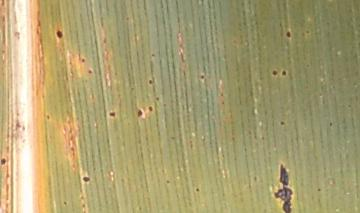tarspot: (272, 185, 299, 213), (278, 163, 292, 186), (54, 28, 65, 43), (81, 173, 93, 184), (136, 107, 144, 121), (269, 69, 279, 79), (1, 156, 8, 170), (146, 104, 155, 114), (280, 68, 289, 78), (285, 28, 293, 39), (106, 111, 118, 118), (198, 73, 207, 81), (279, 119, 288, 127), (327, 119, 334, 129), (146, 78, 155, 85), (87, 68, 94, 77), (317, 185, 323, 195), (195, 185, 202, 193), (62, 200, 70, 207), (80, 57, 87, 64)
